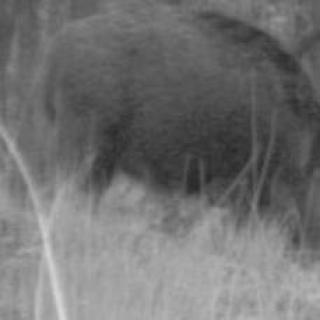Pig: (49, 0, 320, 244)
